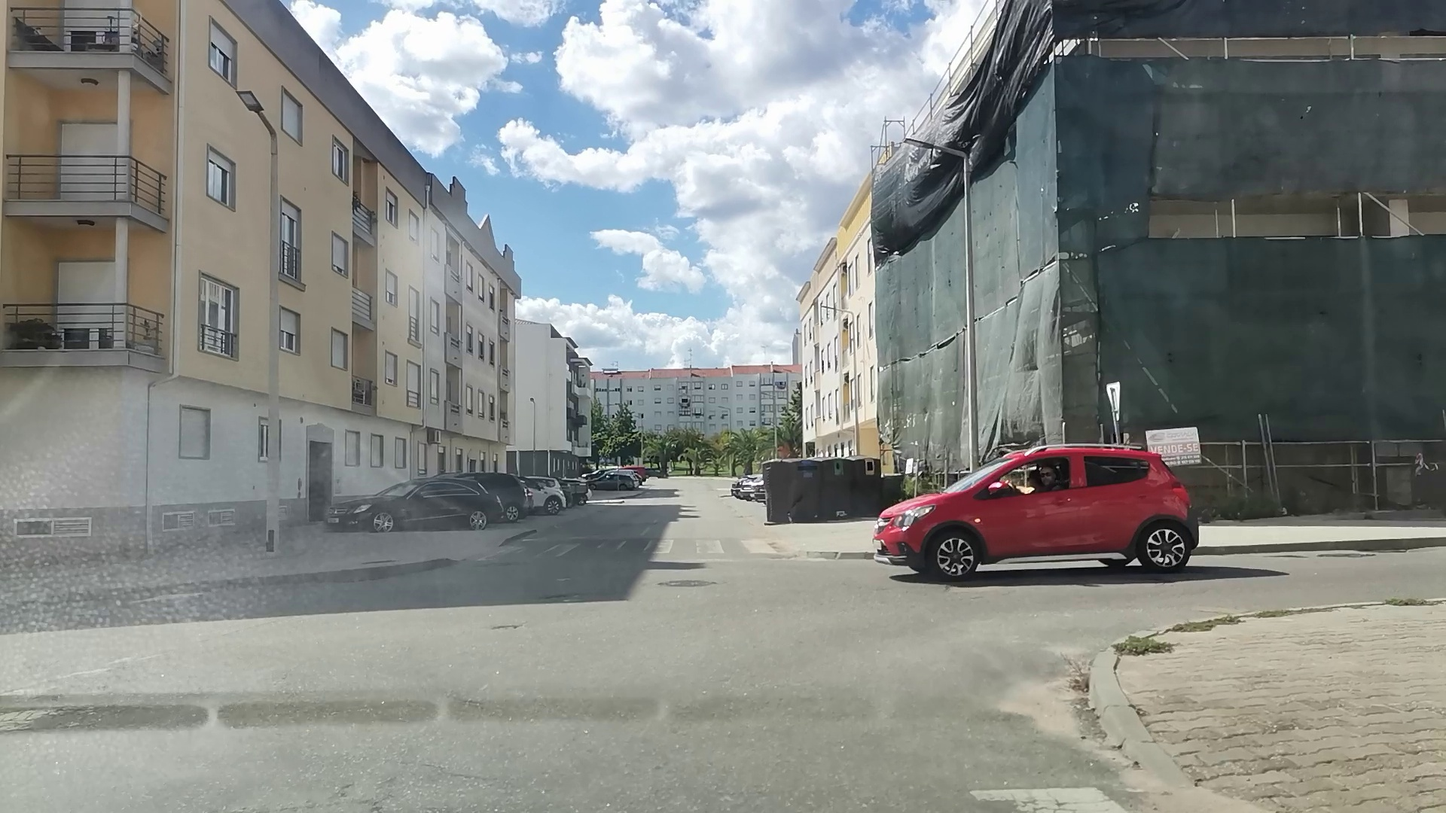Stairs: (478, 539, 781, 558)
